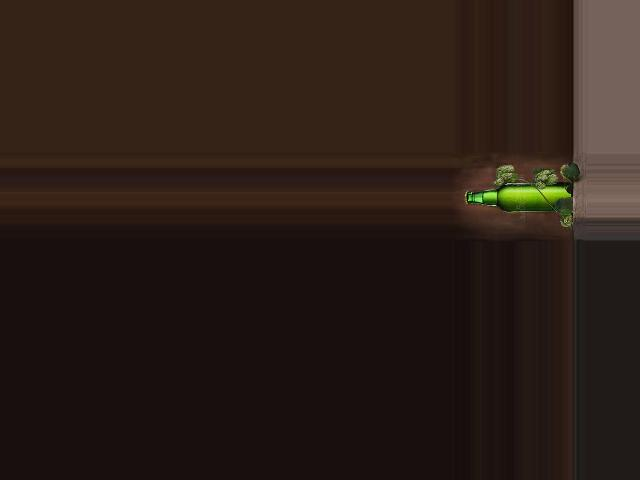beer: (464, 184, 574, 213)
